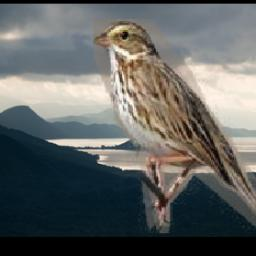Sparrow: (92, 20, 256, 234)
